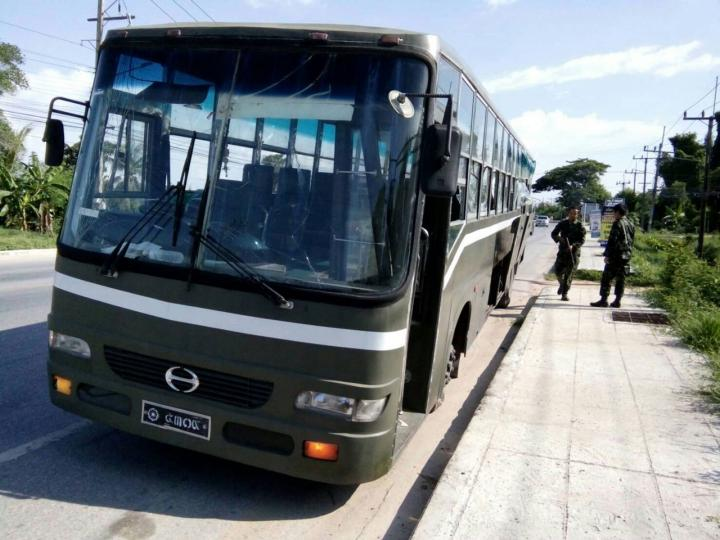bus: (47, 18, 529, 487)
